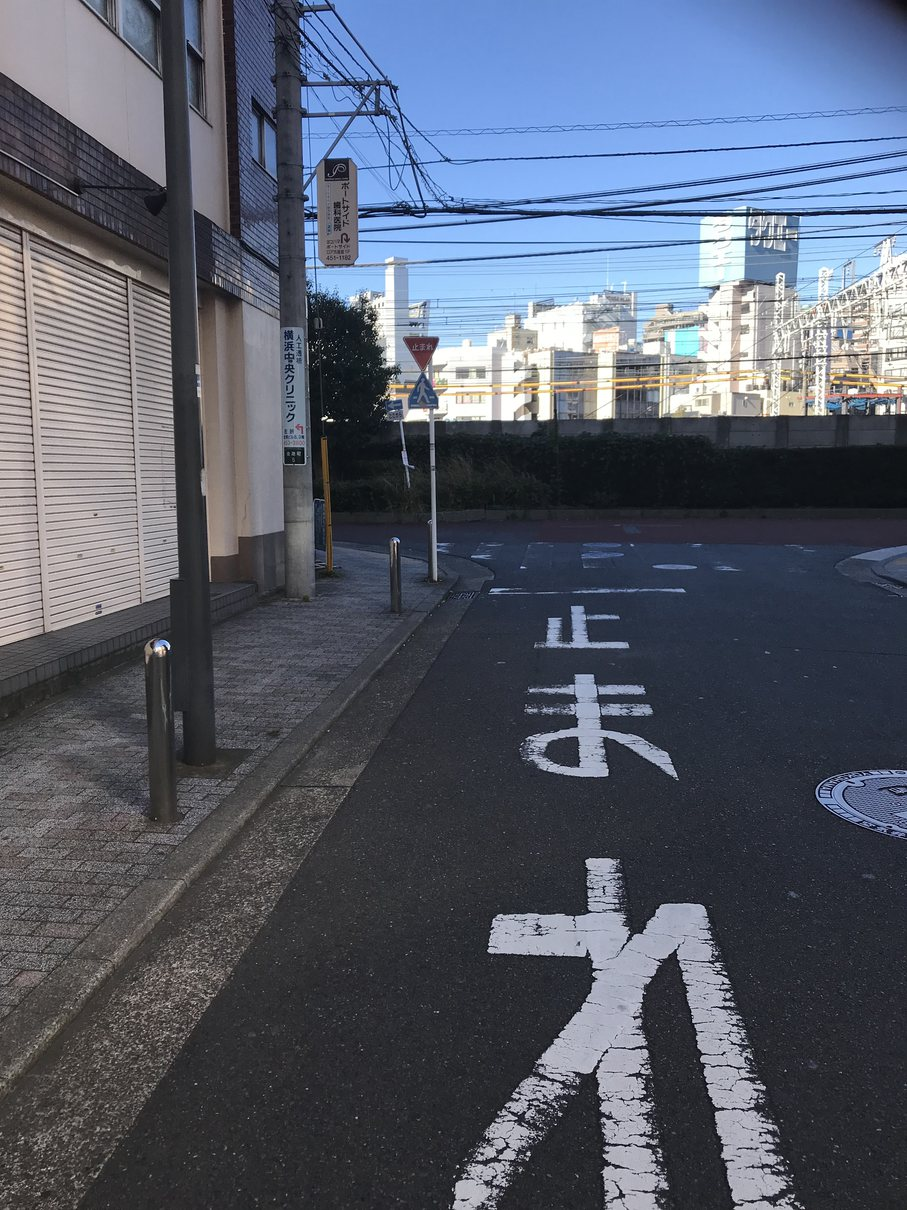stop_sign: (400, 334, 441, 372)
